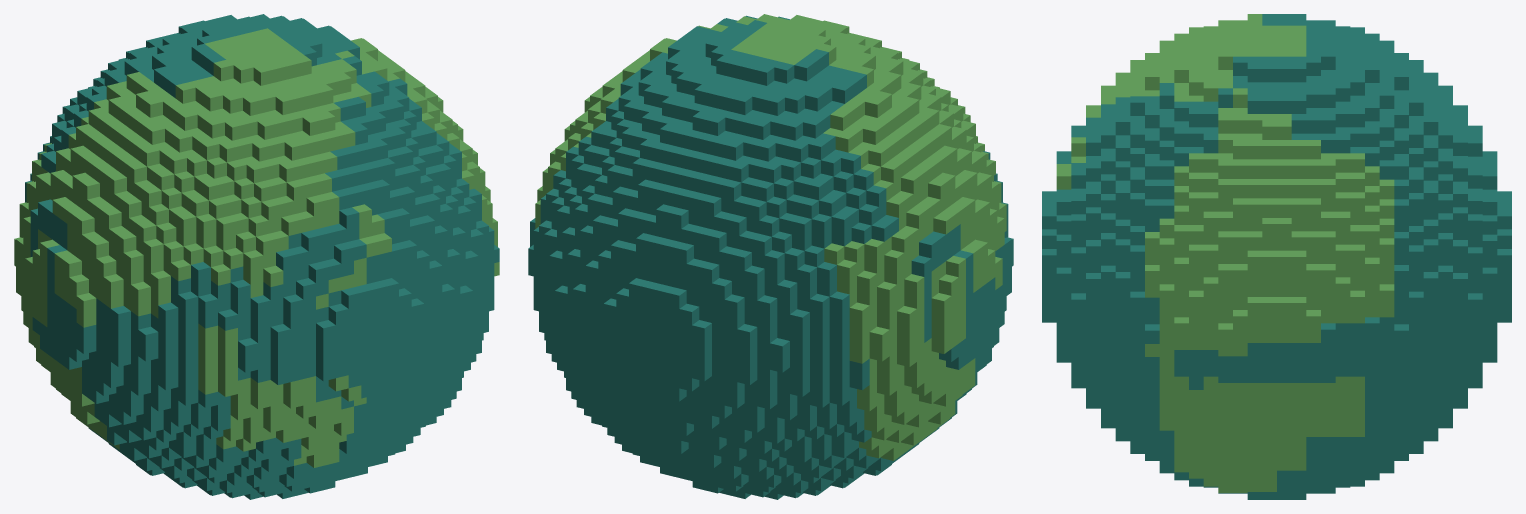
The model's file is earth.obj.
3 renders of one model, left to right at view 1: azimuth 30°, elevation 25°; view 2: azimuth 150°, elevation 25°; view 3: azimuth 270°, elevation 25°, orthographic.
Bounding box in the file's own units: 3.2 × 3.2 × 3.2.
Materials: 1 (1 with a texture image).
